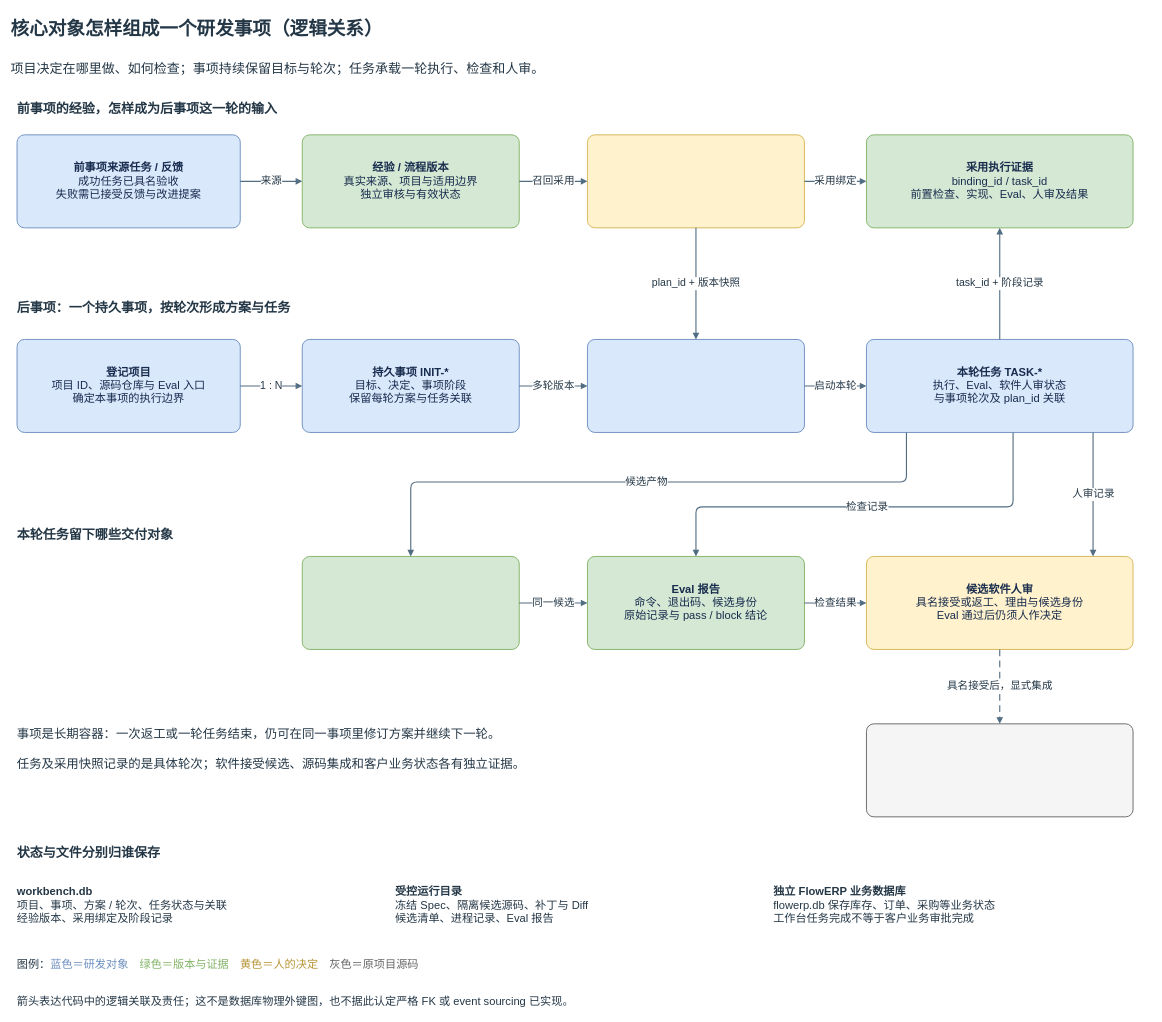
Image size: 1162x1022. Some labels were removed from this diagram. The shapes that lost their labels are listed below. From the top down, each one's centre as x and y in pixels, then its label:
(696,181): 后事项采用快照 人采用或拒绝并记录理由 版本 ID、哈希与 plan_id
(696,386): 方案版本 / 冻结 Spec plan_id、Spec 哈希、确认写集 修订后进入新的交付轮次
(410,603): 候选源码 隔离工作区中的实际修改 Diff、候选清单与哈希
(999,770): 原项目源码 集成须另行确认，并检查源基线 保存集成回执与实际源文件变化
